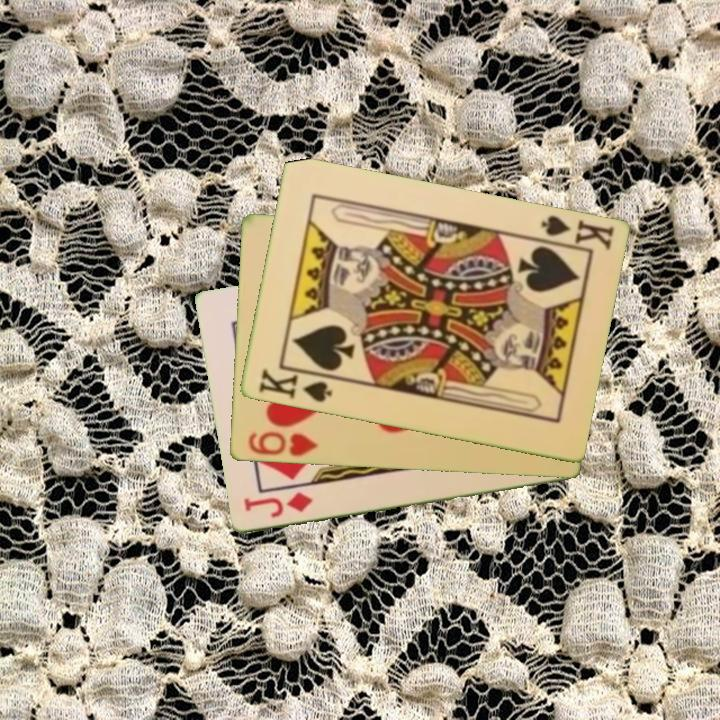6h: (244, 428, 320, 460)
Jd: (240, 489, 315, 521)
Ks: (531, 212, 617, 254), (255, 365, 337, 406)
